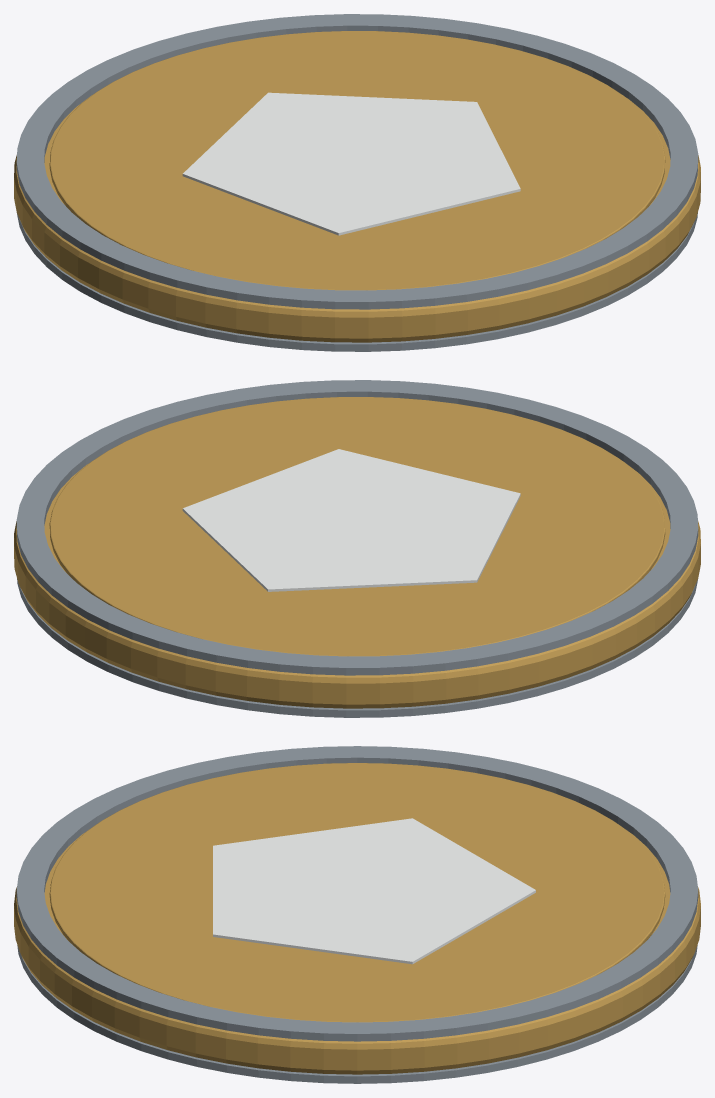
The model's file is coin.glb.
3 views of the same model, one above another, from view 1: azimuth 30°, elevation 25°; view 2: azimuth 150°, elevation 25°; view 3: azimuth 270°, elevation 25° (orthographic).
Visible parts, largest first — view 1: MESH_Coin_Alloy, MESH_Brushed_Metal, MESH_Marking; view 2: MESH_Coin_Alloy, MESH_Brushed_Metal, MESH_Marking; view 3: MESH_Coin_Alloy, MESH_Brushed_Metal, MESH_Marking.
Boxes of the visible parts, x1=… form: MESH_Coin_Alloy: x1=14, y1=31, x2=700, y2=342; MESH_Brushed_Metal: x1=16, y1=14, x2=698, y2=351; MESH_Marking: x1=182, y1=92, x2=520, y2=235; MESH_Coin_Alloy: x1=14, y1=397, x2=700, y2=708; MESH_Brushed_Metal: x1=16, y1=380, x2=698, y2=717; MESH_Marking: x1=182, y1=449, x2=520, y2=591; MESH_Coin_Alloy: x1=14, y1=763, x2=700, y2=1074; MESH_Brushed_Metal: x1=16, y1=746, x2=698, y2=1083; MESH_Marking: x1=213, y1=818, x2=535, y2=964.
Bounding box in the file's own units: 0.5 × 0.04 × 0.5.
